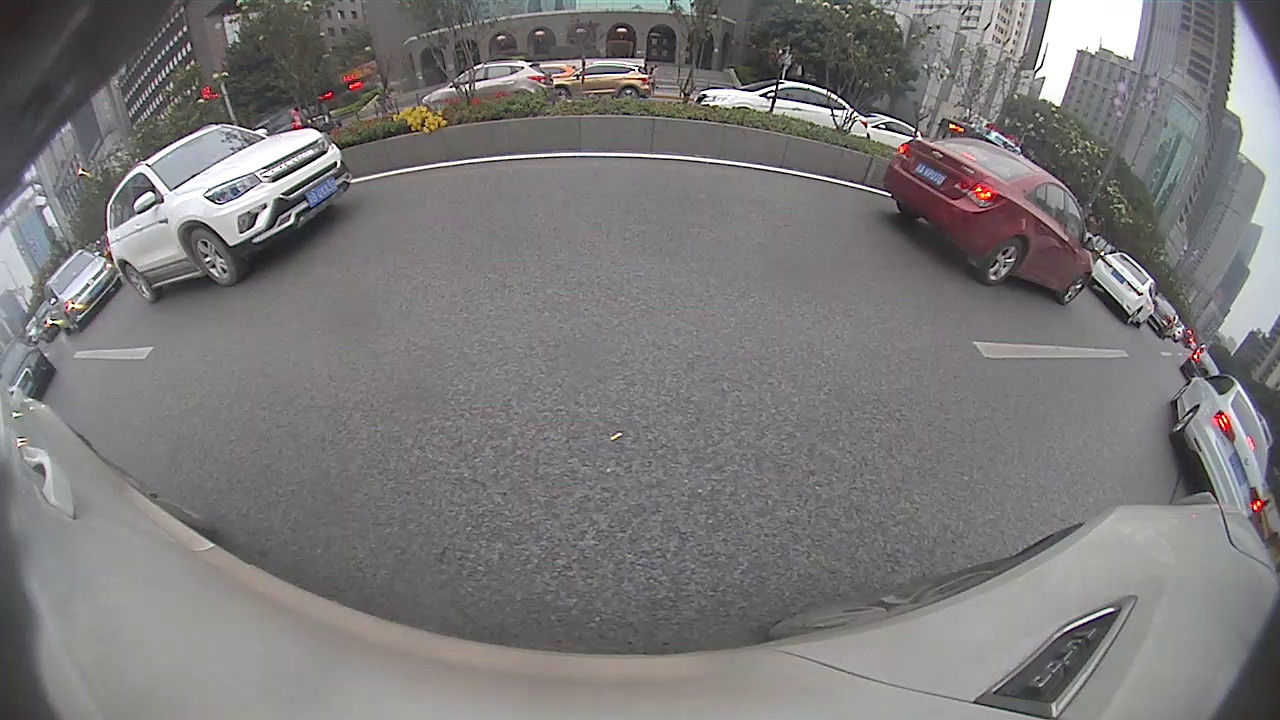car: (104, 123, 353, 305), (883, 135, 1098, 307), (1167, 368, 1271, 519), (697, 78, 868, 138), (42, 248, 122, 334), (421, 60, 554, 110), (1092, 252, 1160, 328), (1, 333, 57, 401)
front: (189, 230, 237, 284), (1059, 275, 1087, 306)
rear: (977, 240, 1024, 285), (123, 261, 156, 304)
